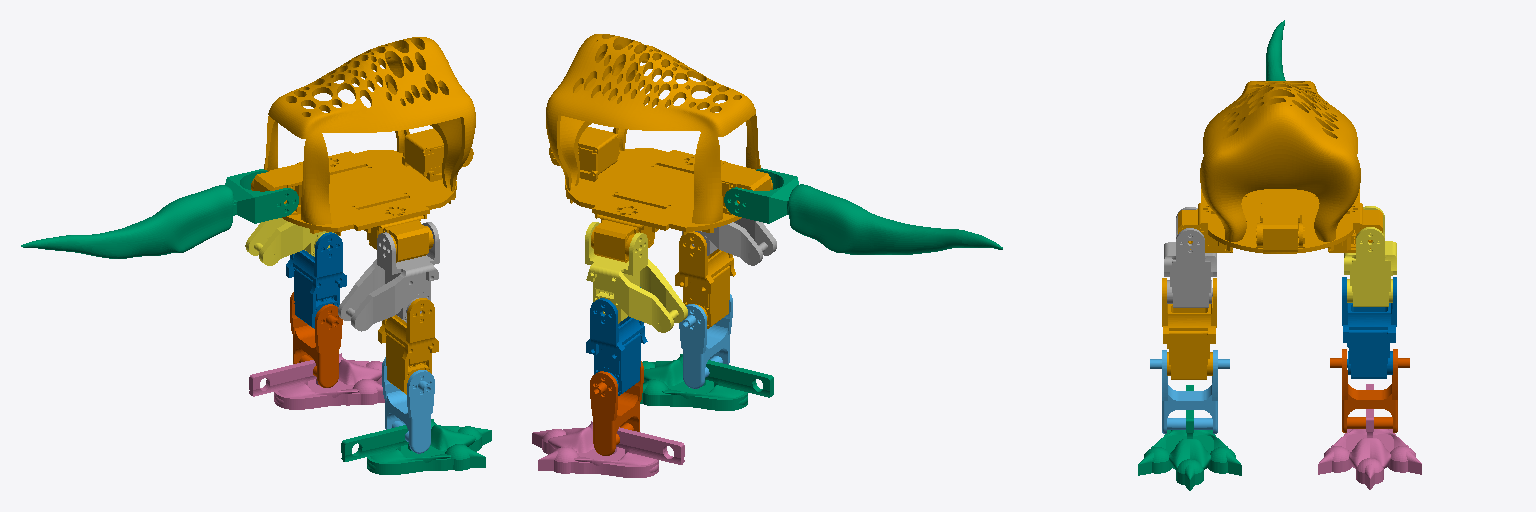
robot.urdf — Trex:
<?xml version="1.0" ?>
<robot name="Trex">

<material name="silver">
  <color rgba="0.700 0.700 0.700 1.000"/>
</material>

<link name="base_link">
  <inertial>
    <origin xyz="-0.004270616890662594 -0.0029339345540941265 0.24781628606058095" rpy="0 0 0"/>
    <mass value="2.5946436241015154"/>
    <inertia ixx="0.008581706876185202" iyy="0.010965006517468207" izz="0.010691333839746643" ixy="3.530000434957456e-05" iyz="1.2627397270894214e-05" ixz="-0.0010725177253468313"/>
  </inertial>
  <visual>
    <origin xyz="0 0 0" rpy="0 0 0"/>
    <geometry>
      <mesh filename="meshes/base_link.stl" scale="0.001 0.001 0.001"/>
    </geometry>
    <material name="silver"/>
    <material/>
  </visual>
  <collision>
    <origin xyz="0 0 0" rpy="0 0 0"/>
    <geometry>
      <mesh filename="meshes/base_link.stl" scale="0.001 0.001 0.001"/>
    </geometry>
  </collision>
</link>

<link name="Head1">
  <inertial>
    <origin xyz="0.09181925636118149 -0.019390958278968466 0.012881361432735133" rpy="0 0 0"/>
    <mass value="0.23135041530445052"/>
    <inertia ixx="0.00010487587517492812" iyy="0.00044815484923186114" izz="0.0004113016921370111" ixy="-6.332931981086062e-07" iyz="8.049298142423934e-07" ixz="-8.475793152120346e-05"/>
  </inertial>
  <visual>
    <origin xyz="-0.075102 -0.015379 -0.241619" rpy="0 0 0"/>
    <geometry>
      <mesh filename="meshes/Head1.stl" scale="0.001 0.001 0.001"/>
    </geometry>
    <material name="silver"/>
    <material/>
  </visual>
  <collision>
    <origin xyz="-0.075102 -0.015379 -0.241619" rpy="0 0 0"/>
    <geometry>
      <mesh filename="meshes/Head1.stl" scale="0.001 0.001 0.001"/>
    </geometry>
  </collision>
</link>

<link name="Tail1">
  <inertial>
    <origin xyz="-0.08666855151827861 -0.019900100413069294 -0.005954862113903281" rpy="0 0 0"/>
    <mass value="0.1146191500477622"/>
    <inertia ixx="2.0357956807311693e-05" iyy="0.00026764860139793546" izz="0.0002652849961206241" ixy="-8.604508051376821e-06" iyz="-1.350200465009019e-07" ixz="-1.0719339304280165e-05"/>
  </inertial>
  <visual>
    <origin xyz="0.093508 -0.016876 -0.239673" rpy="0 0 0"/>
    <geometry>
      <mesh filename="meshes/Tail1.stl" scale="0.001 0.001 0.001"/>
    </geometry>
    <material name="silver"/>
    <material/>
  </visual>
  <collision>
    <origin xyz="0.093508 -0.016876 -0.239673" rpy="0 0 0"/>
    <geometry>
      <mesh filename="meshes/Tail1.stl" scale="0.001 0.001 0.001"/>
    </geometry>
  </collision>
</link>

<link name="left_femur_link1">
  <inertial>
    <origin xyz="0.010748485821642992 -0.0002715483816852077 -0.03698418180420651" rpy="0 0 0"/>
    <mass value="0.06680304850355523"/>
    <inertia ixx="2.6575957724423675e-05" iyy="3.875690250430808e-05" izz="2.947032131528414e-05" ixy="-2.8738050869657873e-07" iyz="-1.5258330902847422e-07" ixz="-4.636512559222443e-06"/>
  </inertial>
  <visual>
    <origin xyz="0.02892 -0.07084 -0.205659" rpy="0 0 0"/>
    <geometry>
      <mesh filename="meshes/left_femur_link1.stl" scale="0.001 0.001 0.001"/>
    </geometry>
    <material name="silver"/>
    <material/>
  </visual>
  <collision>
    <origin xyz="0.02892 -0.07084 -0.205659" rpy="0 0 0"/>
    <geometry>
      <mesh filename="meshes/left_femur_link1.stl" scale="0.001 0.001 0.001"/>
    </geometry>
  </collision>
</link>

<link name="left_tibia_link1">
  <inertial>
    <origin xyz="3.1828405335250845e-05 -0.018803541990349656 -0.04264428935043468" rpy="0 0 0"/>
    <mass value="0.05351347605439858"/>
    <inertia ixx="2.9723296356692604e-05" iyy="2.4290264418037758e-05" izz="1.1364346820161601e-05" ixy="4.9512710634641826e-08" iyz="3.260511544843315e-08" ixz="-3.266468616149417e-08"/>
  </inertial>
  <visual>
    <origin xyz="0.01044 -0.088993 -0.150652" rpy="0 0 0"/>
    <geometry>
      <mesh filename="meshes/left_tibia_link1.stl" scale="0.001 0.001 0.001"/>
    </geometry>
    <material name="silver"/>
    <material/>
  </visual>
  <collision>
    <origin xyz="0.01044 -0.088993 -0.150652" rpy="0 0 0"/>
    <geometry>
      <mesh filename="meshes/left_tibia_link1.stl" scale="0.001 0.001 0.001"/>
    </geometry>
  </collision>
</link>

<link name="left_ankle_link1">
  <inertial>
    <origin xyz="-1.1120666239587684e-05 -0.01874984828539633 -0.030181328878263983" rpy="0 0 0"/>
    <mass value="0.023955525372820193"/>
    <inertia ixx="1.5088337126178063e-05" iyy="8.54963804079941e-06" izz="7.986543419289684e-06" ixy="-6.77965170982342e-18" iyz="-1.8973538018496328e-19" ixz="-2.6492328187620122e-09"/>
  </inertial>
  <visual>
    <origin xyz="0.010465 -0.089193 -0.085652" rpy="0 0 0"/>
    <geometry>
      <mesh filename="meshes/left_ankle_link1.stl" scale="0.001 0.001 0.001"/>
    </geometry>
    <material name="silver"/>
    <material/>
  </visual>
  <collision>
    <origin xyz="0.010465 -0.089193 -0.085652" rpy="0 0 0"/>
    <geometry>
      <mesh filename="meshes/left_ankle_link1.stl" scale="0.001 0.001 0.001"/>
    </geometry>
  </collision>
</link>

<link name="left_feet1">
  <inertial>
    <origin xyz="0.01581979340664151 1.0824023846667252e-07 -0.01561162985207257" rpy="0 0 0"/>
    <mass value="0.07176223495066988"/>
    <inertia ixx="2.089420950680918e-05" iyy="5.9347364360357884e-05" izz="7.398456235047638e-05" ixy="1.1972073100951792e-10" iyz="-1.215232997781382e-11" ixz="3.0391596926870517e-06"/>
  </inertial>
  <visual>
    <origin xyz="0.010485 -0.070443 -0.031652" rpy="0 0 0"/>
    <geometry>
      <mesh filename="meshes/left_feet1.stl" scale="0.001 0.001 0.001"/>
    </geometry>
    <material name="silver"/>
    <material/>
  </visual>
  <collision>
    <origin xyz="0.010485 -0.070443 -0.031652" rpy="0 0 0"/>
    <geometry>
      <mesh filename="meshes/left_feet1.stl" scale="0.001 0.001 0.001"/>
    </geometry>
  </collision>
</link>

<link name="right_femur_link1">
  <inertial>
    <origin xyz="0.010747643492282064 -0.0002715519028283486 -0.03698392656873109" rpy="0 0 0"/>
    <mass value="0.06680304850355523"/>
    <inertia ixx="2.6575957724424108e-05" iyy="3.875690250430808e-05" izz="2.947032131528414e-05" ixy="-2.873805086968498e-07" iyz="-1.5258330902901632e-07" ixz="-4.636512559222551e-06"/>
  </inertial>
  <visual>
    <origin xyz="0.026939 0.07658 -0.205658" rpy="0 0 0"/>
    <geometry>
      <mesh filename="meshes/right_femur_link1.stl" scale="0.001 0.001 0.001"/>
    </geometry>
    <material name="silver"/>
    <material/>
  </visual>
  <collision>
    <origin xyz="0.026939 0.07658 -0.205658" rpy="0 0 0"/>
    <geometry>
      <mesh filename="meshes/right_femur_link1.stl" scale="0.001 0.001 0.001"/>
    </geometry>
  </collision>
</link>

<link name="right_tibia_link1">
  <inertial>
    <origin xyz="3.198607597682153e-05 -0.018803545511496413 -0.042645034114958486" rpy="0 0 0"/>
    <mass value="0.05351347605439858"/>
    <inertia ixx="2.972329635669217e-05" iyy="2.4290264418037975e-05" izz="1.1364346820161113e-05" ixy="4.951271063487222e-08" iyz="3.260511544762e-08" ixz="-3.266468616086398e-08"/>
  </inertial>
  <visual>
    <origin xyz="0.00846 0.058427 -0.150652" rpy="0 0 0"/>
    <geometry>
      <mesh filename="meshes/right_tibia_link1.stl" scale="0.001 0.001 0.001"/>
    </geometry>
    <material name="silver"/>
    <material/>
  </visual>
  <collision>
    <origin xyz="0.00846 0.058427 -0.150652" rpy="0 0 0"/>
    <geometry>
      <mesh filename="meshes/right_tibia_link1.stl" scale="0.001 0.001 0.001"/>
    </geometry>
  </collision>
</link>

<link name="right_ankle_link1">
  <inertial>
    <origin xyz="-1.0962995595524203e-05 -0.018749851806541026 -0.030182073642794127" rpy="0 0 0"/>
    <mass value="0.023955525372820193"/>
    <inertia ixx="1.508833712617782e-05" iyy="8.549638040799518e-06" izz="7.986543419289413e-06" ixy="-6.54925874817025e-18" iyz="-2.574980159653073e-19" ixz="-2.6492328186146285e-09"/>
  </inertial>
  <visual>
    <origin xyz="0.008485 0.058227 -0.085652" rpy="0 0 0"/>
    <geometry>
      <mesh filename="meshes/right_ankle_link1.stl" scale="0.001 0.001 0.001"/>
    </geometry>
    <material name="silver"/>
    <material/>
  </visual>
  <collision>
    <origin xyz="0.008485 0.058227 -0.085652" rpy="0 0 0"/>
    <geometry>
      <mesh filename="meshes/right_ankle_link1.stl" scale="0.001 0.001 0.001"/>
    </geometry>
  </collision>
</link>

<link name="right_feet1">
  <inertial>
    <origin xyz="0.01581995107728499 1.0471909225873155e-07 -0.015612374616604155" rpy="0 0 0"/>
    <mass value="0.07176223495066988"/>
    <inertia ixx="2.0894209506809992e-05" iyy="5.934736436035849e-05" izz="7.398456235047513e-05" ixy="1.197207298778819e-10" iyz="-1.2152328229537816e-11" ixz="3.039159692692139e-06"/>
  </inertial>
  <visual>
    <origin xyz="0.008505 0.076977 -0.031652" rpy="0 0 0"/>
    <geometry>
      <mesh filename="meshes/right_feet1.stl" scale="0.001 0.001 0.001"/>
    </geometry>
    <material name="silver"/>
    <material/>
  </visual>
  <collision>
    <origin xyz="0.008505 0.076977 -0.031652" rpy="0 0 0"/>
    <geometry>
      <mesh filename="meshes/right_feet1.stl" scale="0.001 0.001 0.001"/>
    </geometry>
  </collision>
</link>

<joint name="head_rev" type="continuous">
  <origin xyz="0.075102 0.015379 0.241619" rpy="0 0 0"/>
  <parent link="base_link"/>
  <child link="Head1"/>
  <axis xyz="-0.0 1.0 0.0"/>
</joint>
<transmission name="head_rev_tran">
  <type>transmission_interface/SimpleTransmission</type>
  <joint name="head_rev">
    <hardwareInterface>PositionJointInterface</hardwareInterface>
  </joint>
  <actuator name="head_rev_actr">
    <hardwareInterface>PositionJointInterface</hardwareInterface>
    <mechanicalReduction>1</mechanicalReduction>
  </actuator>
</transmission>

<joint name="tail_rev" type="continuous">
  <origin xyz="-0.093508 0.016876 0.239673" rpy="0 0 0"/>
  <parent link="base_link"/>
  <child link="Tail1"/>
  <axis xyz="-0.0 1.0 0.0"/>
</joint>
<transmission name="tail_rev_tran">
  <type>transmission_interface/SimpleTransmission</type>
  <joint name="tail_rev">
    <hardwareInterface>PositionJointInterface</hardwareInterface>
  </joint>
  <actuator name="tail_rev_actr">
    <hardwareInterface>PositionJointInterface</hardwareInterface>
    <mechanicalReduction>1</mechanicalReduction>
  </actuator>
</transmission>

<joint name="left_hip_rev" type="continuous">
  <origin xyz="-0.02892 0.07084 0.205659" rpy="0 0 0"/>
  <parent link="base_link"/>
  <child link="left_femur_link1"/>
  <axis xyz="-1.0 -0.0 0.000376"/>
</joint>
<transmission name="left_hip_rev_tran">
  <type>transmission_interface/SimpleTransmission</type>
  <joint name="left_hip_rev">
    <hardwareInterface>PositionJointInterface</hardwareInterface>
  </joint>
  <actuator name="left_hip_rev_actr">
    <hardwareInterface>PositionJointInterface</hardwareInterface>
    <mechanicalReduction>1</mechanicalReduction>
  </actuator>
</transmission>

<joint name="left_femur_rev" type="continuous">
  <origin xyz="0.01848 0.018153 -0.055007" rpy="0 0 0"/>
  <parent link="left_femur_link1"/>
  <child link="left_tibia_link1"/>
  <axis xyz="0.0 -1.0 -0.0"/>
</joint>
<transmission name="left_femur_rev_tran">
  <type>transmission_interface/SimpleTransmission</type>
  <joint name="left_femur_rev">
    <hardwareInterface>PositionJointInterface</hardwareInterface>
  </joint>
  <actuator name="left_femur_rev_actr">
    <hardwareInterface>PositionJointInterface</hardwareInterface>
    <mechanicalReduction>1</mechanicalReduction>
  </actuator>
</transmission>

<joint name="left_tibia_rev" type="continuous">
  <origin xyz="-2.5e-05 0.0002 -0.065" rpy="0 0 0"/>
  <parent link="left_tibia_link1"/>
  <child link="left_ankle_link1"/>
  <axis xyz="-0.0 1.0 0.0"/>
</joint>
<transmission name="left_tibia_rev_tran">
  <type>transmission_interface/SimpleTransmission</type>
  <joint name="left_tibia_rev">
    <hardwareInterface>PositionJointInterface</hardwareInterface>
  </joint>
  <actuator name="left_tibia_rev_actr">
    <hardwareInterface>PositionJointInterface</hardwareInterface>
    <mechanicalReduction>1</mechanicalReduction>
  </actuator>
</transmission>

<joint name="left_ankle_rev" type="continuous">
  <origin xyz="-2e-05 -0.01875 -0.054" rpy="0 0 0"/>
  <parent link="left_ankle_link1"/>
  <child link="left_feet1"/>
  <axis xyz="-0.0 1.0 0.0"/>
</joint>
<transmission name="left_ankle_rev_tran">
  <type>transmission_interface/SimpleTransmission</type>
  <joint name="left_ankle_rev">
    <hardwareInterface>PositionJointInterface</hardwareInterface>
  </joint>
  <actuator name="left_ankle_rev_actr">
    <hardwareInterface>PositionJointInterface</hardwareInterface>
    <mechanicalReduction>1</mechanicalReduction>
  </actuator>
</transmission>

<joint name="right_hip_rev" type="continuous">
  <origin xyz="-0.026939 -0.07658 0.205658" rpy="0 0 0"/>
  <parent link="base_link"/>
  <child link="right_femur_link1"/>
  <axis xyz="1.0 0.0 -0.000376"/>
</joint>
<transmission name="right_hip_rev_tran">
  <type>transmission_interface/SimpleTransmission</type>
  <joint name="right_hip_rev">
    <hardwareInterface>PositionJointInterface</hardwareInterface>
  </joint>
  <actuator name="right_hip_rev_actr">
    <hardwareInterface>PositionJointInterface</hardwareInterface>
    <mechanicalReduction>1</mechanicalReduction>
  </actuator>
</transmission>

<joint name="right_femur_rev" type="continuous">
  <origin xyz="0.018479 0.018153 -0.055006" rpy="0 0 0"/>
  <parent link="right_femur_link1"/>
  <child link="right_tibia_link1"/>
  <axis xyz="0.0 -1.0 -0.0"/>
</joint>
<transmission name="right_femur_rev_tran">
  <type>transmission_interface/SimpleTransmission</type>
  <joint name="right_femur_rev">
    <hardwareInterface>PositionJointInterface</hardwareInterface>
  </joint>
  <actuator name="right_femur_rev_actr">
    <hardwareInterface>PositionJointInterface</hardwareInterface>
    <mechanicalReduction>1</mechanicalReduction>
  </actuator>
</transmission>

<joint name="right_tibia_rev" type="continuous">
  <origin xyz="-2.5e-05 0.0002 -0.065" rpy="0 0 0"/>
  <parent link="right_tibia_link1"/>
  <child link="right_ankle_link1"/>
  <axis xyz="-0.0 1.0 0.0"/>
</joint>
<transmission name="right_tibia_rev_tran">
  <type>transmission_interface/SimpleTransmission</type>
  <joint name="right_tibia_rev">
    <hardwareInterface>PositionJointInterface</hardwareInterface>
  </joint>
  <actuator name="right_tibia_rev_actr">
    <hardwareInterface>PositionJointInterface</hardwareInterface>
    <mechanicalReduction>1</mechanicalReduction>
  </actuator>
</transmission>

<joint name="right_ankle_rev" type="continuous">
  <origin xyz="-2e-05 -0.01875 -0.054" rpy="0 0 0"/>
  <parent link="right_ankle_link1"/>
  <child link="right_feet1"/>
  <axis xyz="-0.0 1.0 0.0"/>
</joint>
<transmission name="right_ankle_rev_tran">
  <type>transmission_interface/SimpleTransmission</type>
  <joint name="right_ankle_rev">
    <hardwareInterface>PositionJointInterface</hardwareInterface>
  </joint>
  <actuator name="right_ankle_rev_actr">
    <hardwareInterface>PositionJointInterface</hardwareInterface>
    <mechanicalReduction>1</mechanicalReduction>
  </actuator>
</transmission>

</robot>

--- What the picture shows (computed from the rendered views, not written in the file) ---
The picture shows the robot from 3 angles, left to right: view 1: azimuth 30°, elevation 25°; view 2: azimuth 150°, elevation 25°; view 3: azimuth 270°, elevation 25°; orthographic projection.
Robot: Trex — 11 links, 10 joints (10 continuous); root link base_link; default pose: every joint at zero.
Visible links, largest first — view 1: base_link, Tail1, right_femur_link1, right_feet1, left_feet1, right_tibia_link1, left_tibia_link1, right_ankle_link1, left_ankle_link1, left_femur_link1; view 2: base_link, Tail1, left_femur_link1, left_feet1, right_feet1, left_tibia_link1, right_tibia_link1, left_ankle_link1, right_ankle_link1, right_femur_link1; view 3: base_link, right_feet1, left_feet1, right_tibia_link1, left_tibia_link1, left_femur_link1, right_femur_link1, left_ankle_link1, right_ankle_link1, Tail1.
Boxes of the visible links, bbox=[...] form: base_link: bbox=[251, 37, 475, 262]; Tail1: bbox=[21, 169, 298, 258]; right_femur_link1: bbox=[338, 222, 439, 331]; right_feet1: bbox=[341, 419, 491, 474]; left_feet1: bbox=[249, 353, 384, 409]; right_tibia_link1: bbox=[378, 298, 438, 394]; left_tibia_link1: bbox=[286, 232, 346, 328]; right_ankle_link1: bbox=[382, 357, 434, 453]; left_ankle_link1: bbox=[290, 292, 342, 387]; left_femur_link1: bbox=[245, 218, 338, 265]; base_link: bbox=[546, 34, 772, 262]; Tail1: bbox=[724, 168, 1002, 254]; left_femur_link1: bbox=[585, 222, 687, 332]; left_feet1: bbox=[532, 421, 684, 477]; right_feet1: bbox=[640, 354, 773, 410]; left_tibia_link1: bbox=[586, 287, 647, 395]; right_tibia_link1: bbox=[675, 231, 735, 328]; left_ankle_link1: bbox=[590, 361, 643, 455]; right_ankle_link1: bbox=[679, 294, 732, 388]; right_femur_link1: bbox=[682, 218, 776, 265]; base_link: bbox=[1178, 81, 1382, 253]; right_feet1: bbox=[1138, 385, 1241, 490]; left_feet1: bbox=[1318, 384, 1421, 489]; right_tibia_link1: bbox=[1162, 278, 1216, 379]; left_tibia_link1: bbox=[1342, 277, 1396, 378]; left_femur_link1: bbox=[1344, 206, 1396, 306]; right_femur_link1: bbox=[1164, 207, 1216, 307]; left_ankle_link1: bbox=[1330, 349, 1409, 432]; right_ankle_link1: bbox=[1150, 350, 1229, 433]; Tail1: bbox=[1266, 20, 1285, 80].
Bounding box of the posed robot: 0.4154 × 0.2323 × 0.34 m (x, y, z).
Meshes: 11 distinct files referenced, 10 mesh visuals loaded (10 binary STL); not drawn: 1 (reference not matched to a file when rendering).
